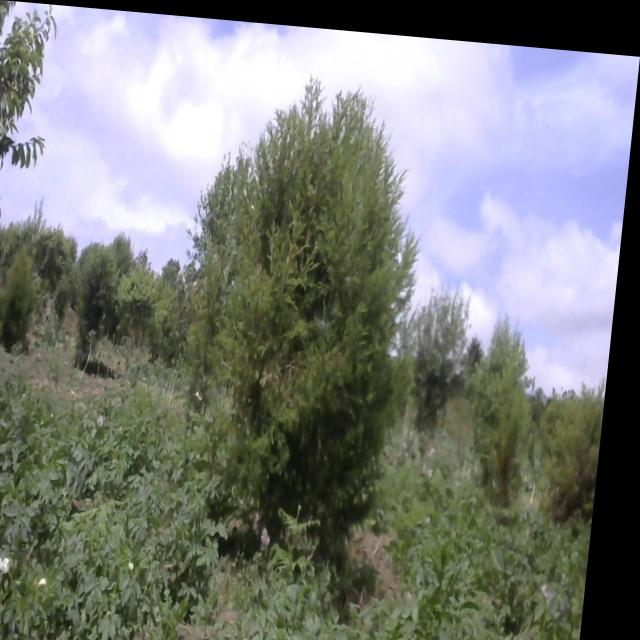Hass Avocado: (0, 3, 63, 187)
Salix alba: (413, 265, 481, 420)
cedrus: (194, 76, 422, 535), (481, 308, 539, 495), (544, 362, 614, 507), (83, 241, 124, 358), (1, 248, 42, 351)
